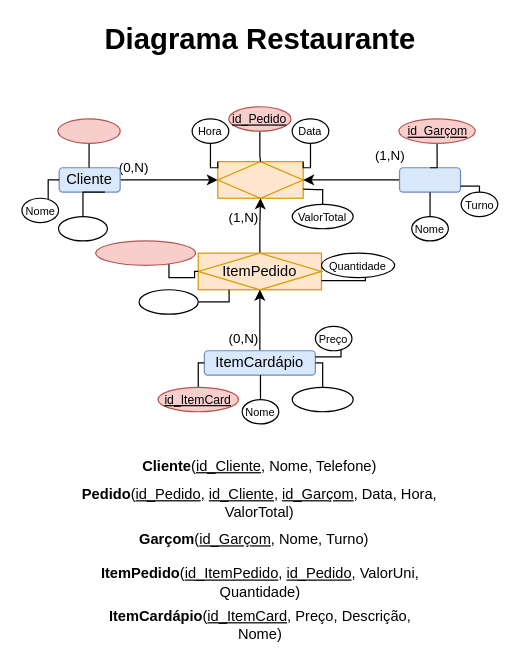
Image size: 519x664. Some labels were removed from this diagram. Here are the shapes that lost their labels. From the top down, the box of each, then its label:
(57, 118, 120, 143): id_Cliente
(217, 160, 303, 198): Pedido
(398, 167, 461, 192): Garçom
(57, 215, 107, 241): Telefone
(95, 240, 196, 265): id_ItemPedido
(138, 289, 198, 314): ValorUni
(291, 386, 353, 412): Descrição
